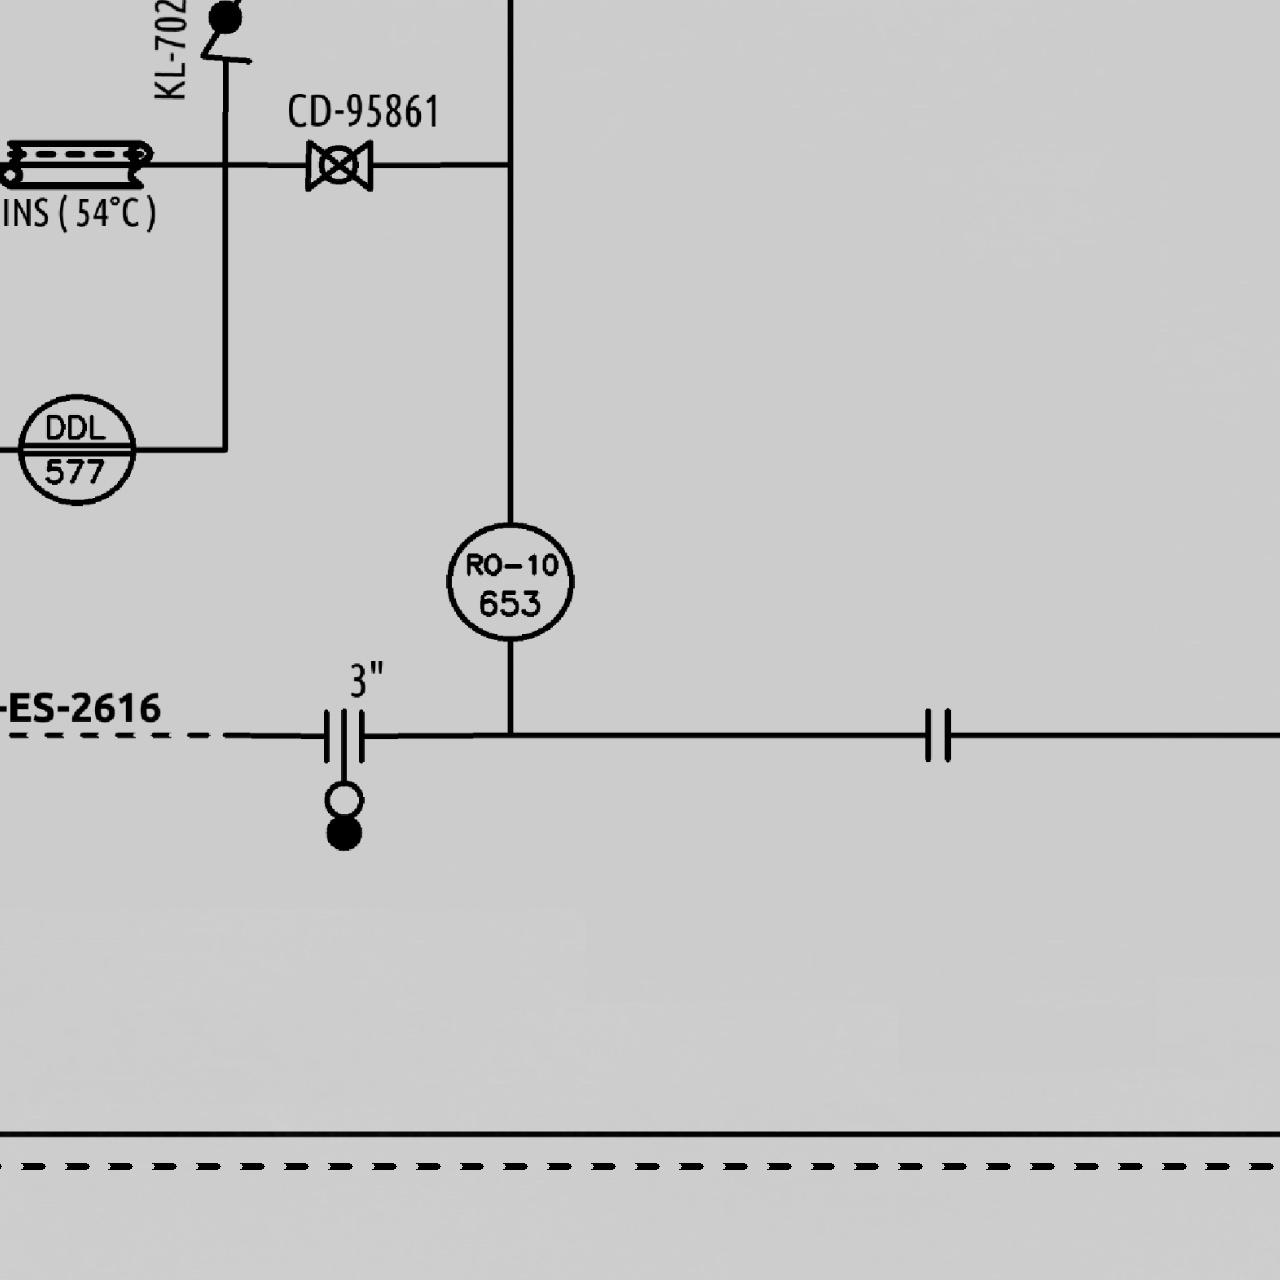Control-Panel: (442, 513, 577, 648), (12, 386, 139, 511)
